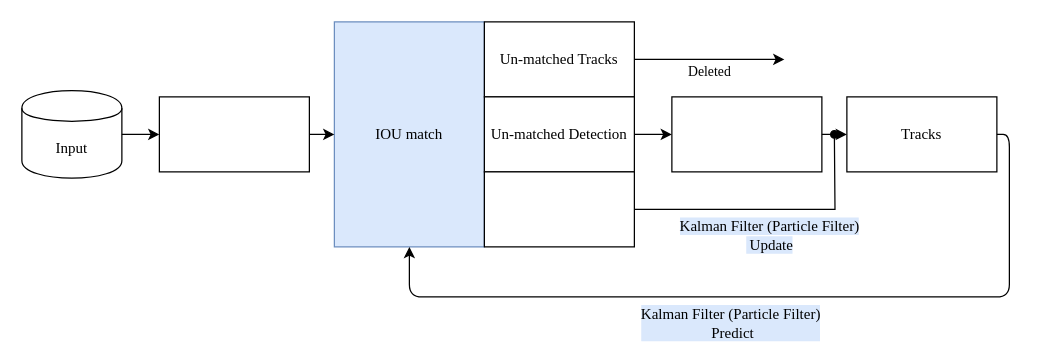
Image size: 1041x363. Some labels were removed from this diagram. Here are the shapes that lost their labels. From the top down, the centre of each, then its label:
the point at 233,134: Detection
the point at 746,134: New Tracks
the point at 558,209: Matched Tracks
